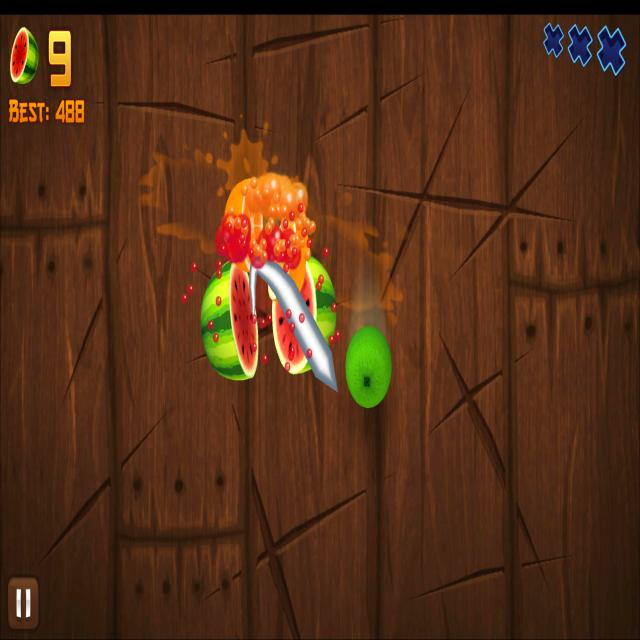fruit: (346, 325, 392, 409)
